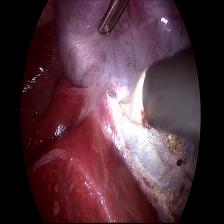Grasper: (98, 1, 132, 46)
Hook: (105, 71, 151, 134)
